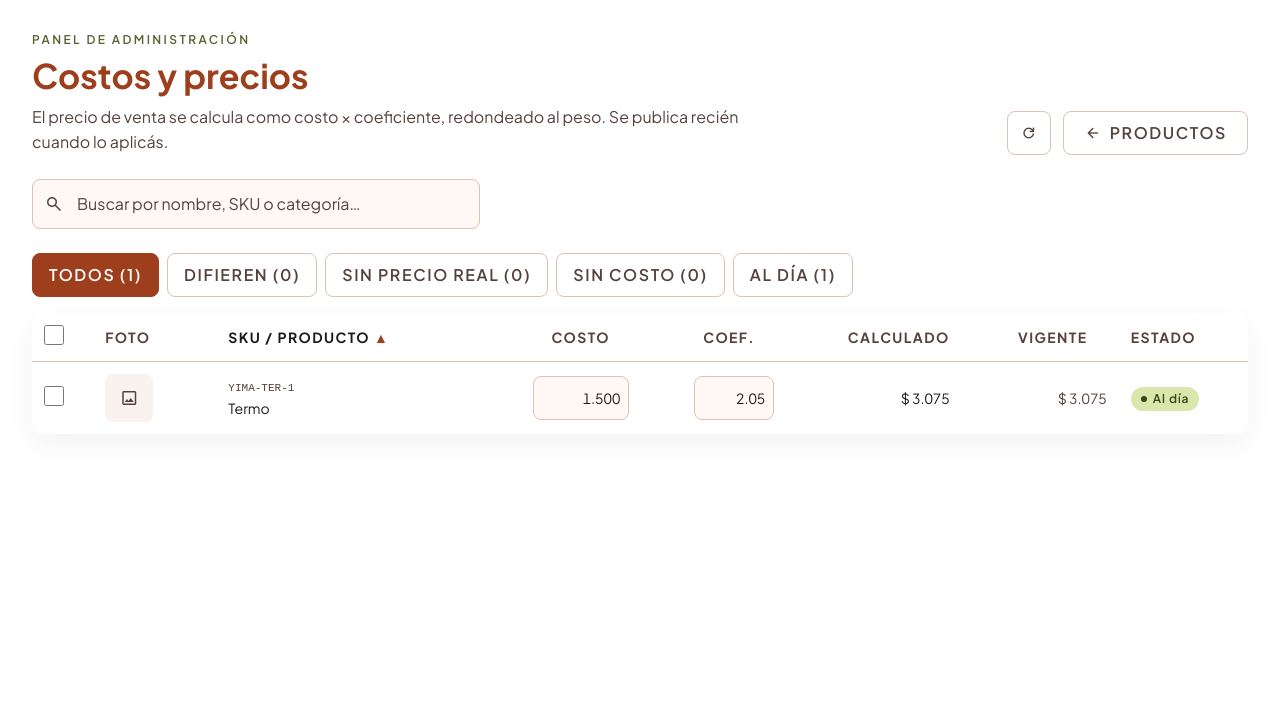
Scenario: AdminPrecios — un costo sin escribir bloquea la previsualización › con el valor ya guardado, el diálogo abre con el número persistido
Expected: the text "Termo" is shown, [228,399,270,417]
Click the checkbox named "Seleccionar Termo". click: click(54, 396)
box: [44,386,64,406]
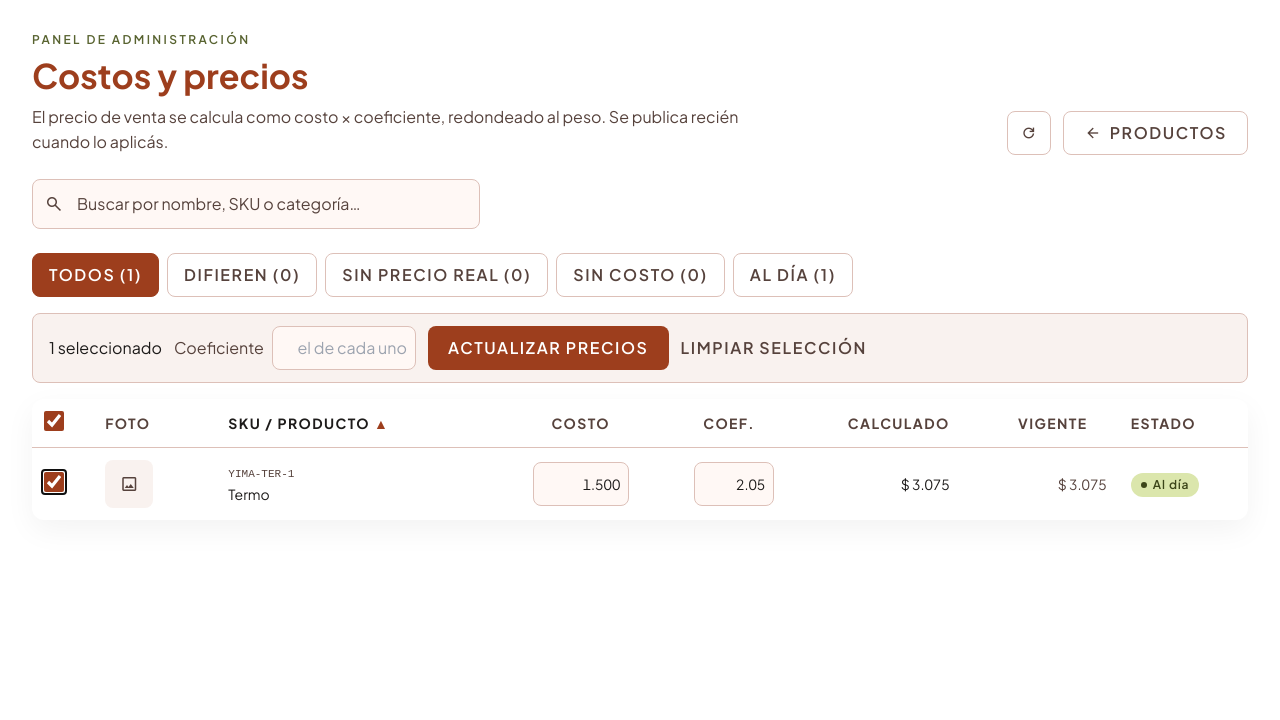
Clear the 1st field named "Costo de Termo". click: (581, 484)
box: [533,462,629,506]
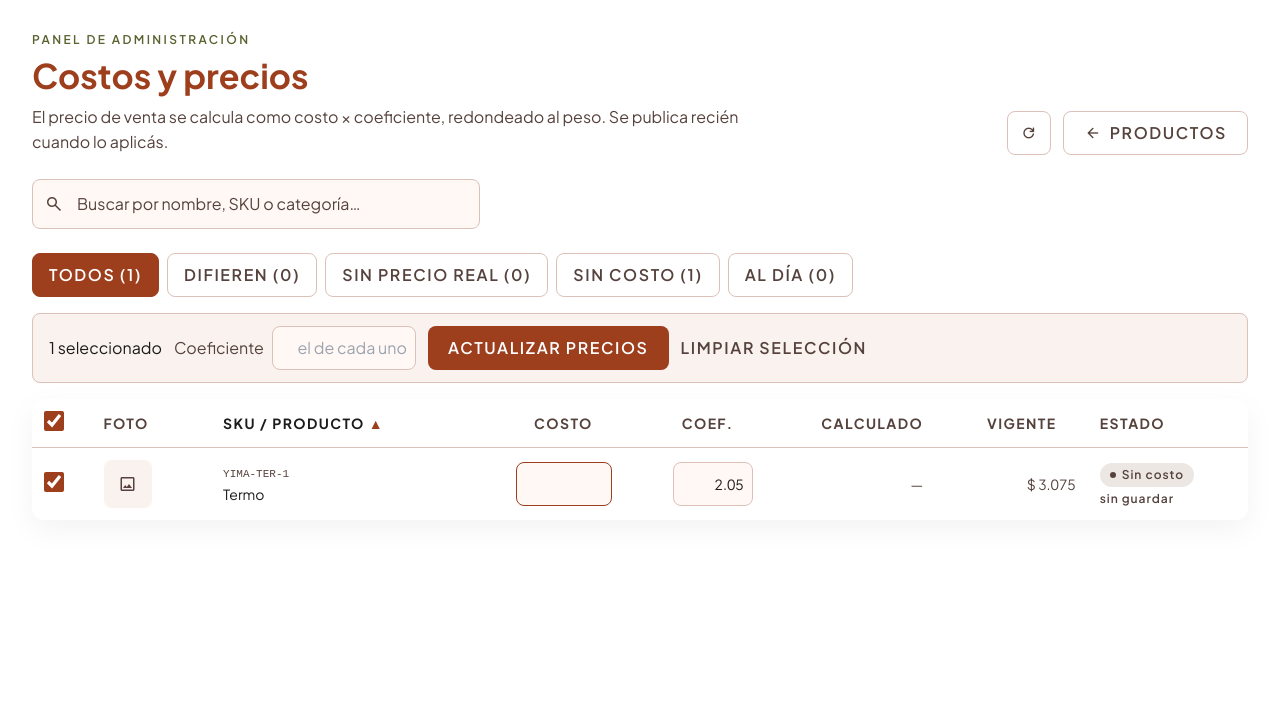
Type "2000" into the 1st field named "Costo de Termo". click: (564, 484)
box: [516,462,612,506]
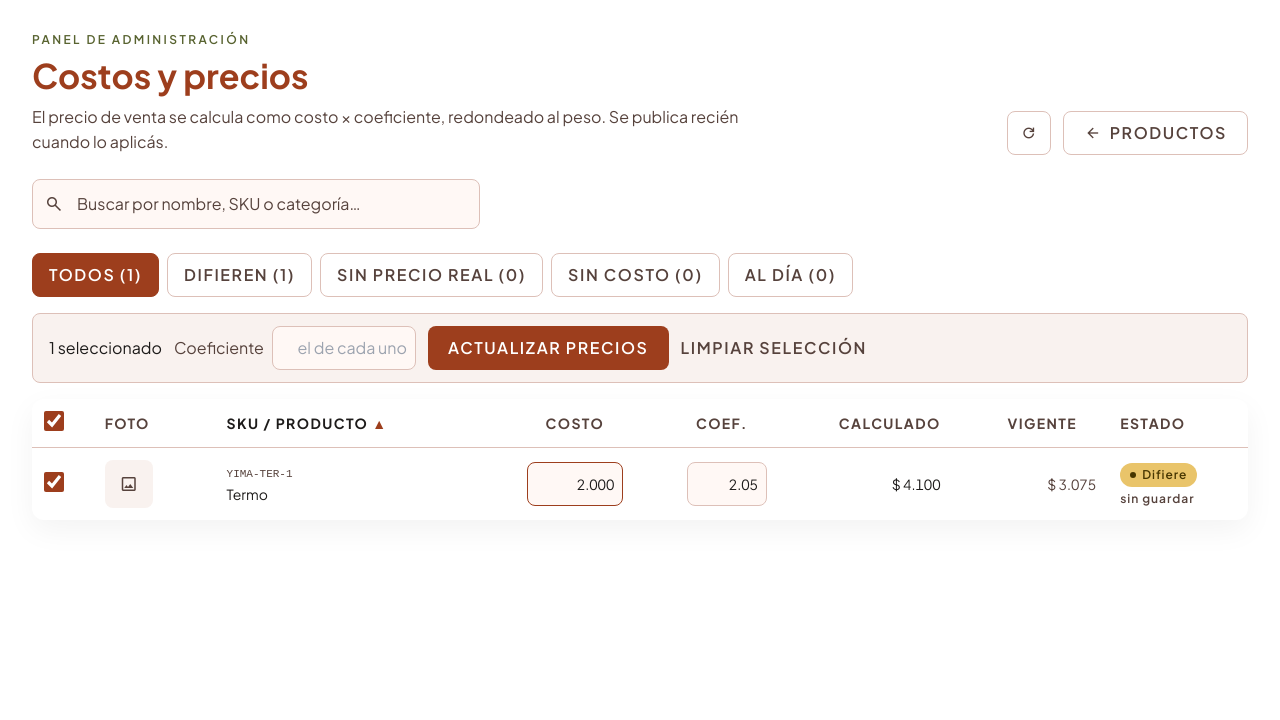
Press Tab
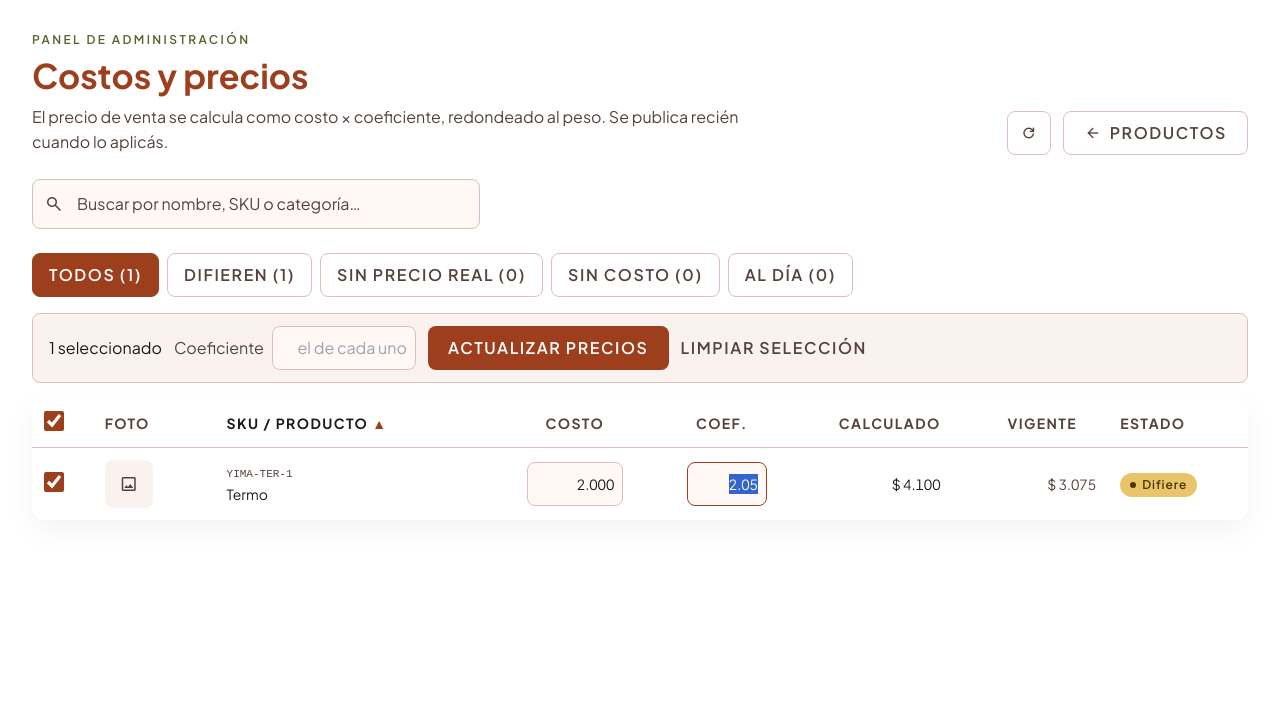
Result: the text "sin guardar" is gone
Click the button "Actualizar precios". click: click(548, 348)
box: [428,326,669,370]
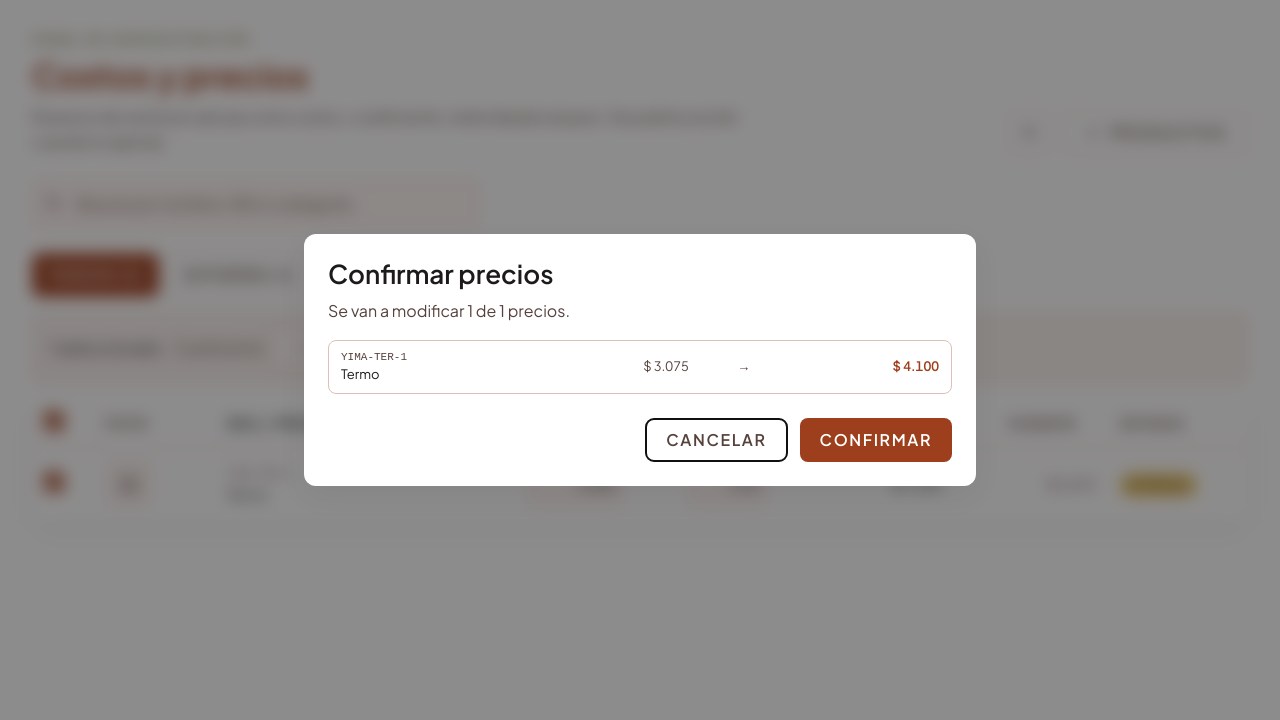
Result: the dialog shows "4.100" at [893,358,939,374]
